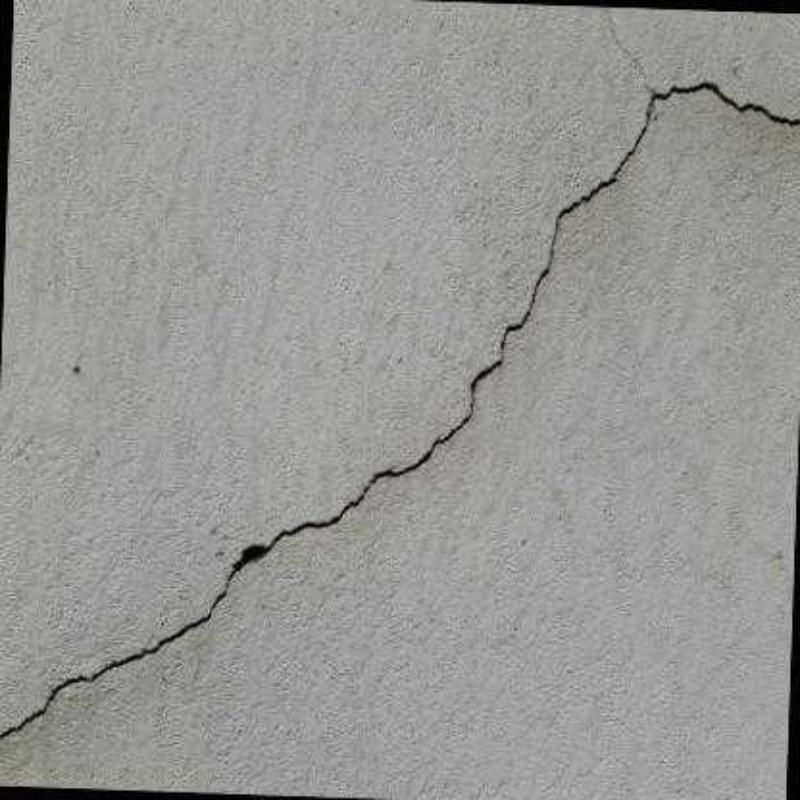pothole: (0, 81, 798, 739), (610, 19, 656, 94)
